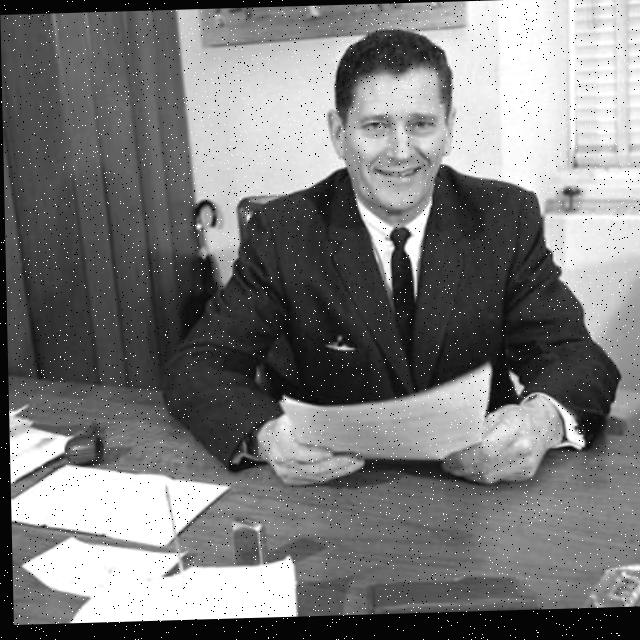face: (332, 37, 455, 202)
